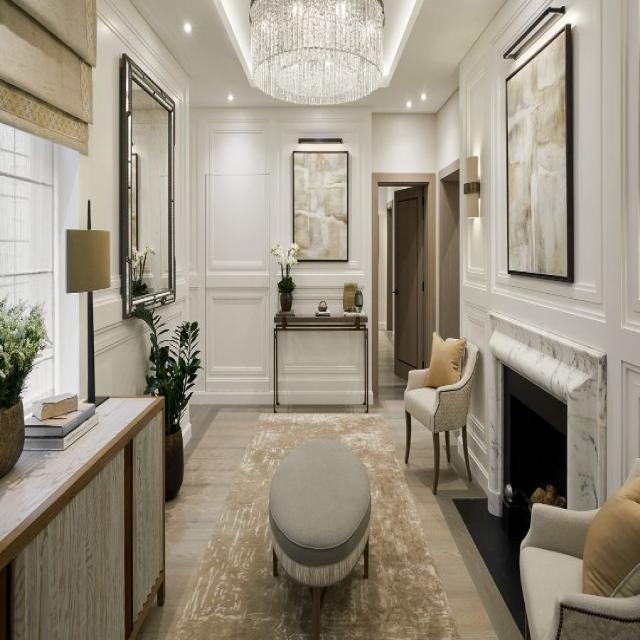Chair: (517, 456, 639, 640), (399, 330, 478, 492)
Lamp: (246, 0, 393, 112), (63, 196, 108, 391)
Table: (263, 442, 378, 638), (272, 311, 377, 408)
